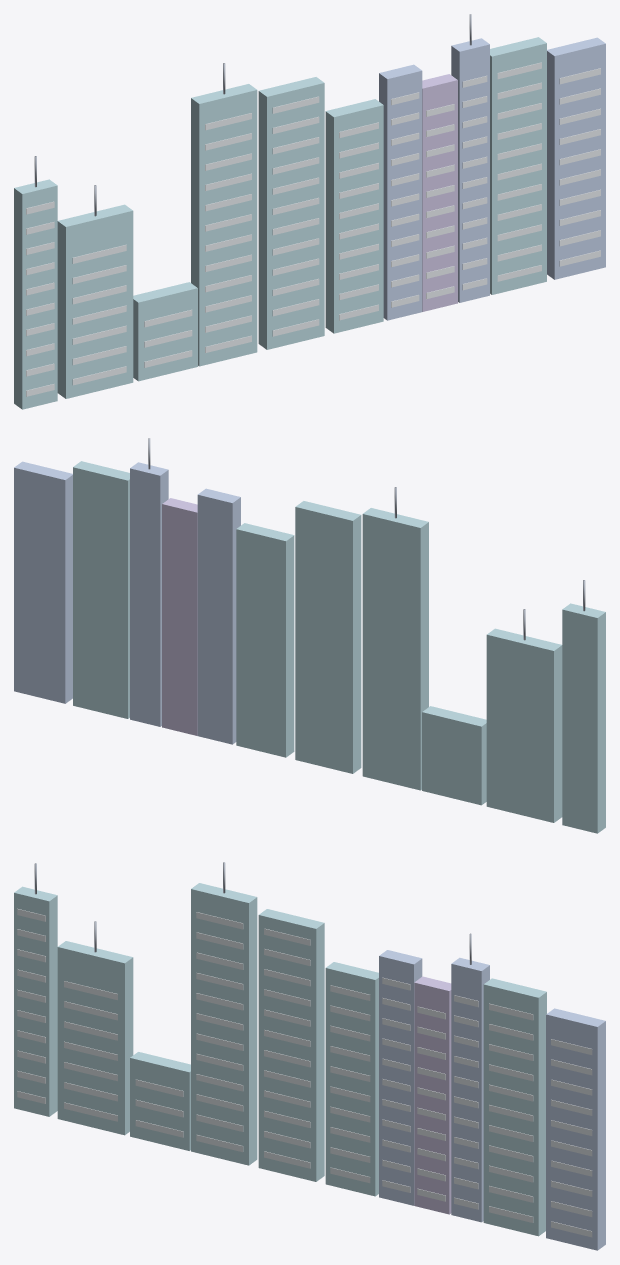
File: Prop_Skyline.fbx
3 renders of one model, top to bottom at view 1: azimuth 30°, elevation 25°; view 2: azimuth 150°, elevation 25°; view 3: azimuth 330°, elevation 25°, orthographic.
Visible parts, largest first — view 1: Prop_Skyline; view 2: Prop_Skyline; view 3: Prop_Skyline.
Boxes of the visible parts, x1=… form: Prop_Skyline: x1=14, y1=14, x2=605, y2=409; Prop_Skyline: x1=14, y1=438, x2=605, y2=833; Prop_Skyline: x1=14, y1=862, x2=605, y2=1250.
Size of the model in its own units: 121 by 57.86 by 3.1.
